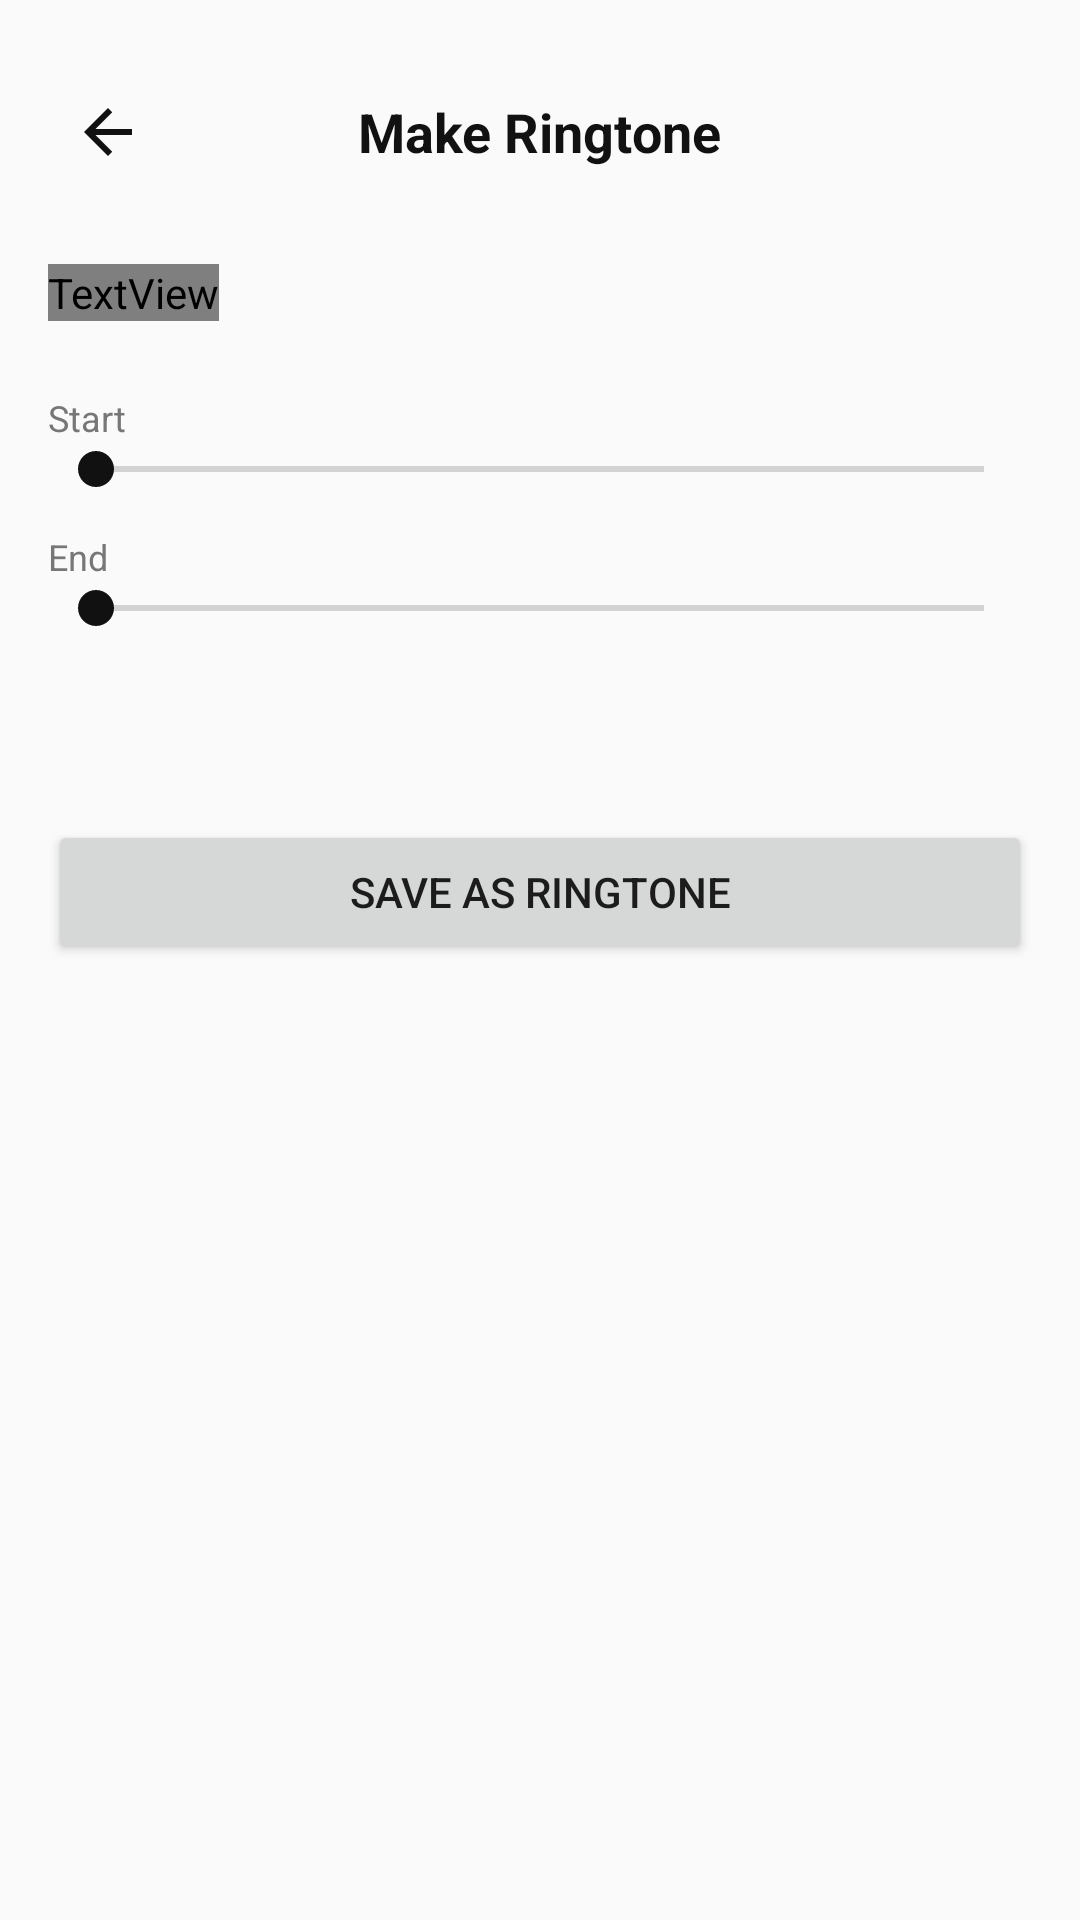

Locate icon controls on the screen. Image size 1080×1920, boxes as (x1, y1, x2, y2).
back: (84, 108, 132, 156)
